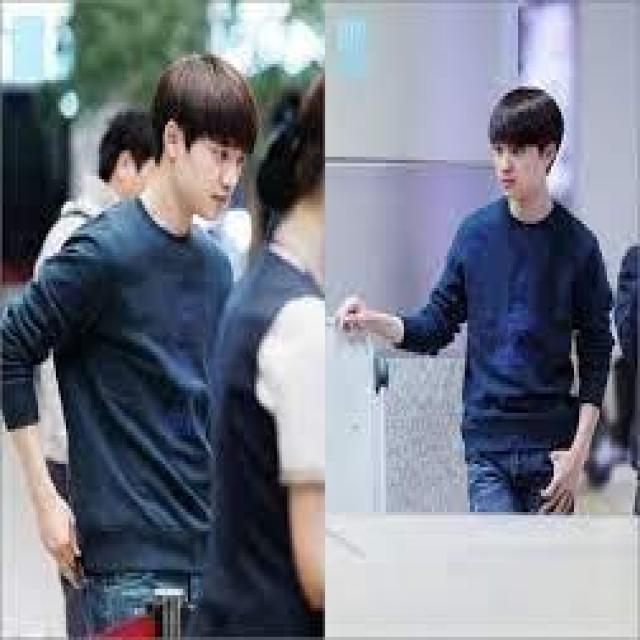sweater: (2, 205, 246, 589), (357, 163, 616, 464)
